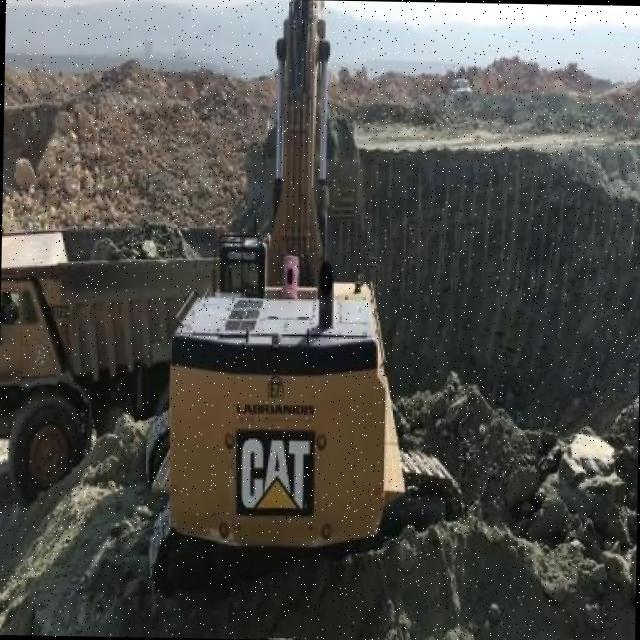Dump Truck: (0, 219, 221, 509)
Excavator: (139, 0, 475, 615)
